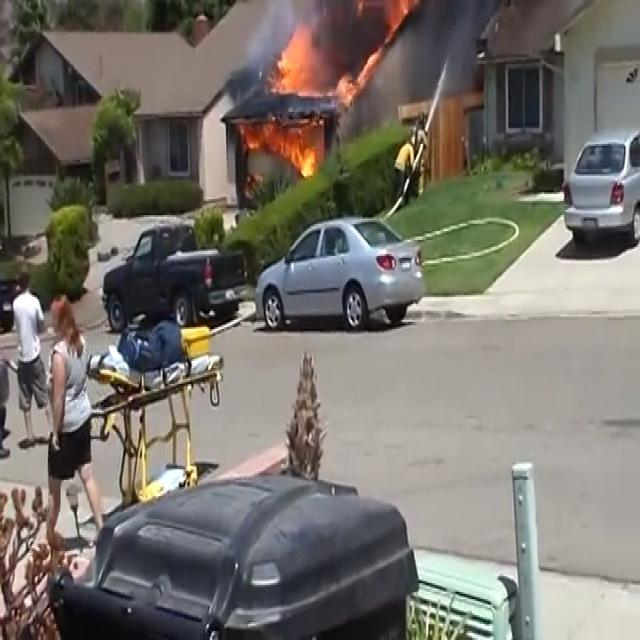Fire: (232, 24, 326, 180)
